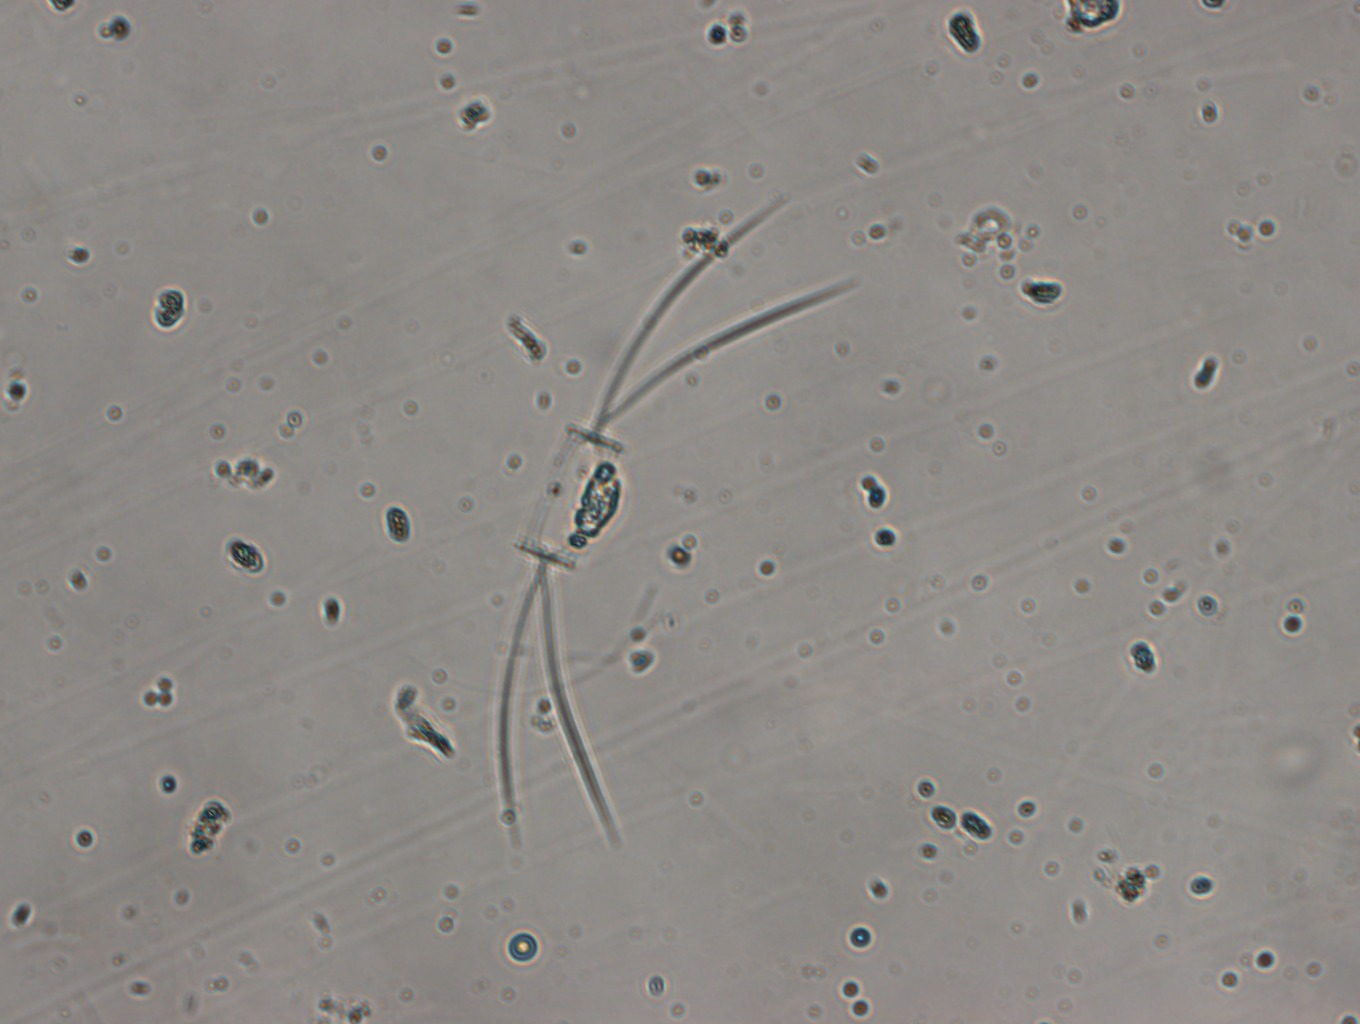chaetoceros: (489, 179, 870, 862)
